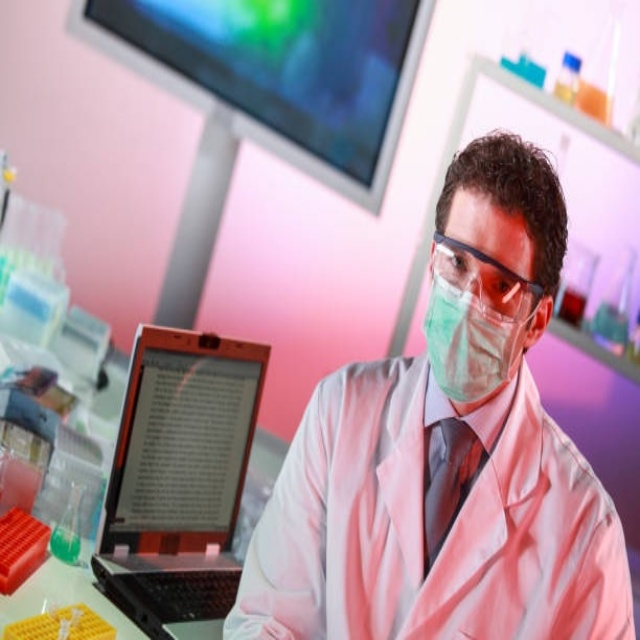Gafas: (432, 233, 546, 320)
Mascara: (422, 270, 516, 400)
